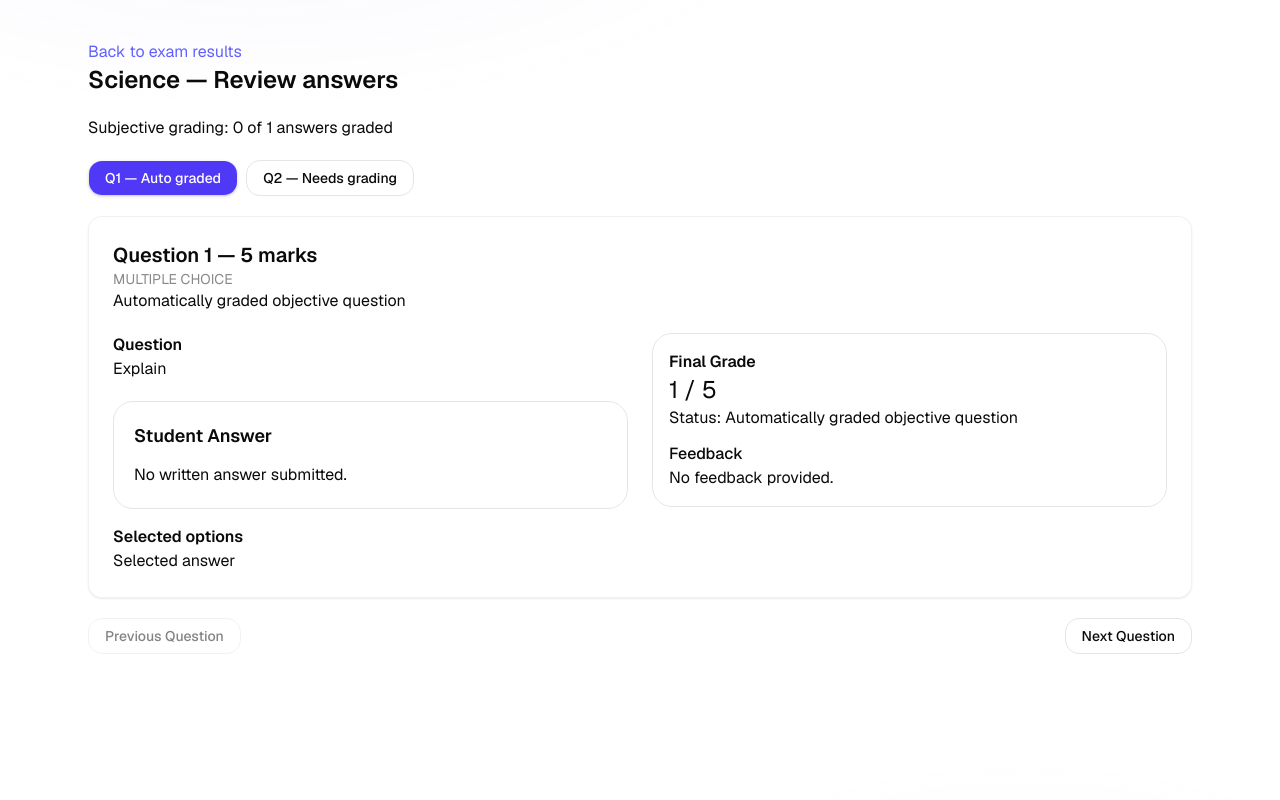
Test: opens the exact attempt, navigates answers and updates subjective progress after saving
Check: the list item "Selected answer" is shown, box [113,550,235,571]
Check: the button "Generate AI" is not shown
Click the button "Next Question" at {"x": 1128, "y": 636}, box [1065,618,1192,654]
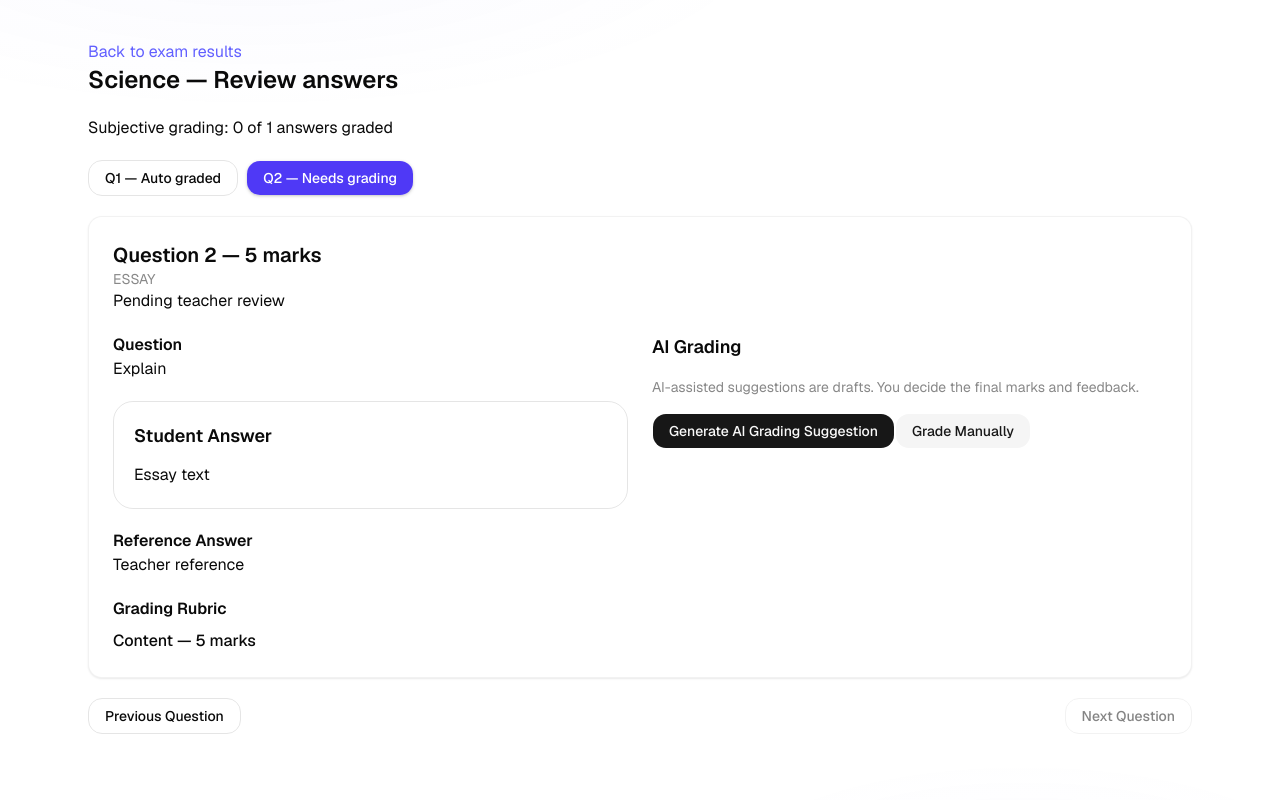
Check: the text "Subjective grading: 0 of 1 answers graded" is shown, box [88,117,393,138]
Check: the text "Essay text" is shown, box [134,464,210,485]
Check: the text "Teacher reference" is shown, box [113,554,244,575]
Click the button "Grade Manually" at {"x": 963, "y": 431}, box [895,413,1031,449]
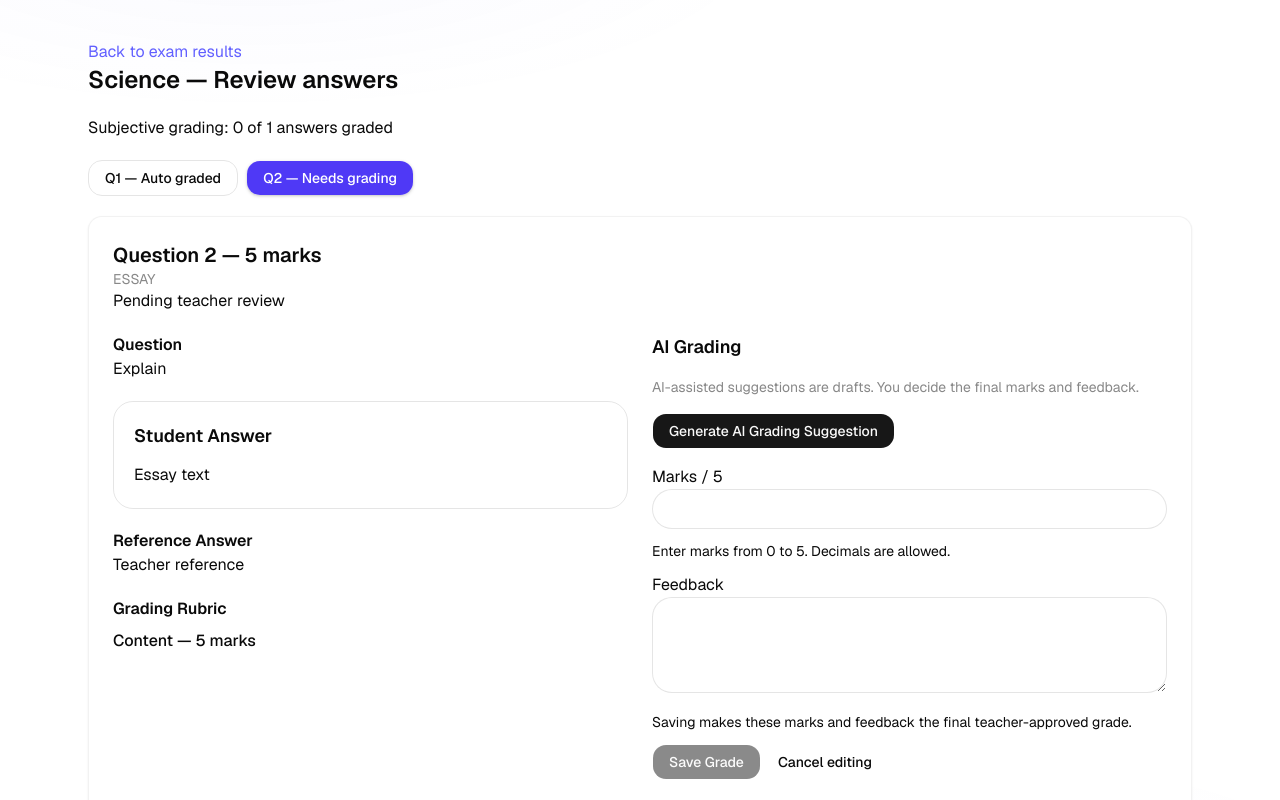
Type "3.5" into the number field labelled "Marks / 5" at {"x": 910, "y": 509}, box [652,489,1167,529]
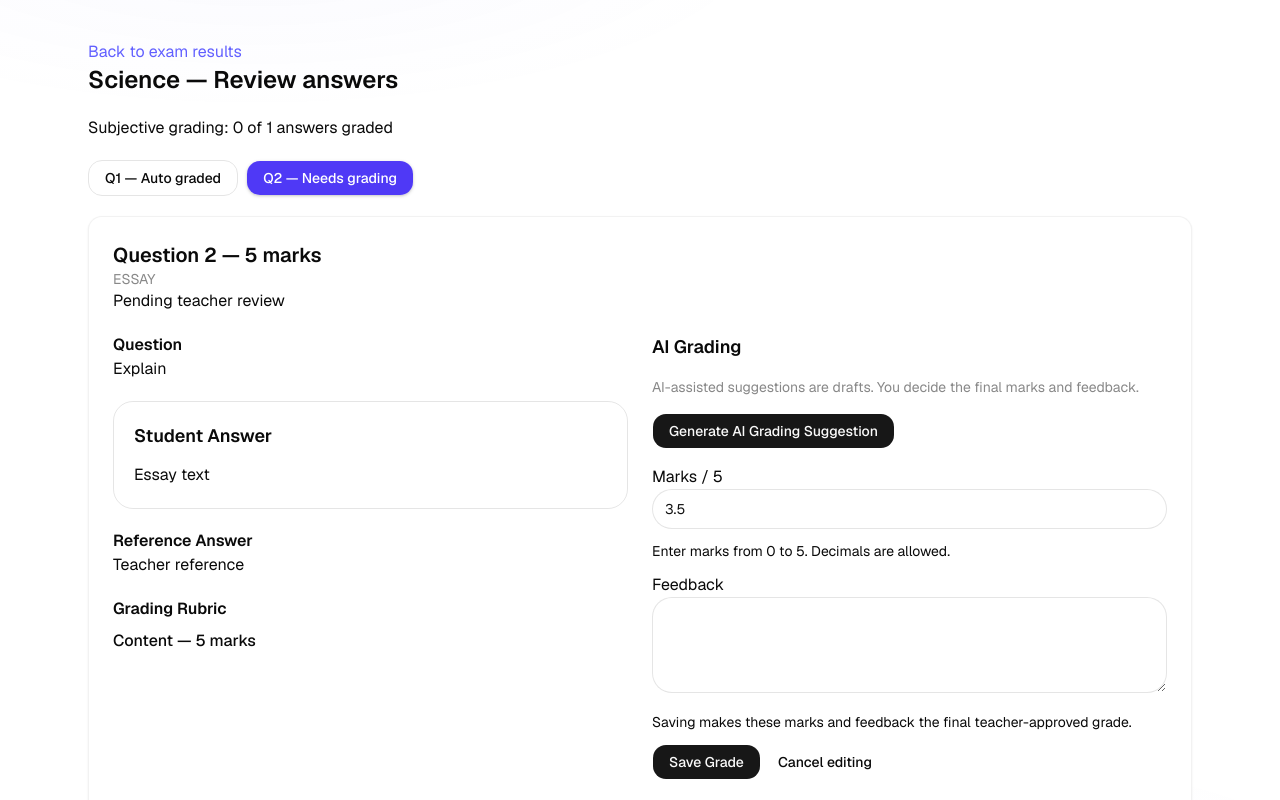
Click the button "Save Grade" at {"x": 706, "y": 762}, box [652,744,761,780]
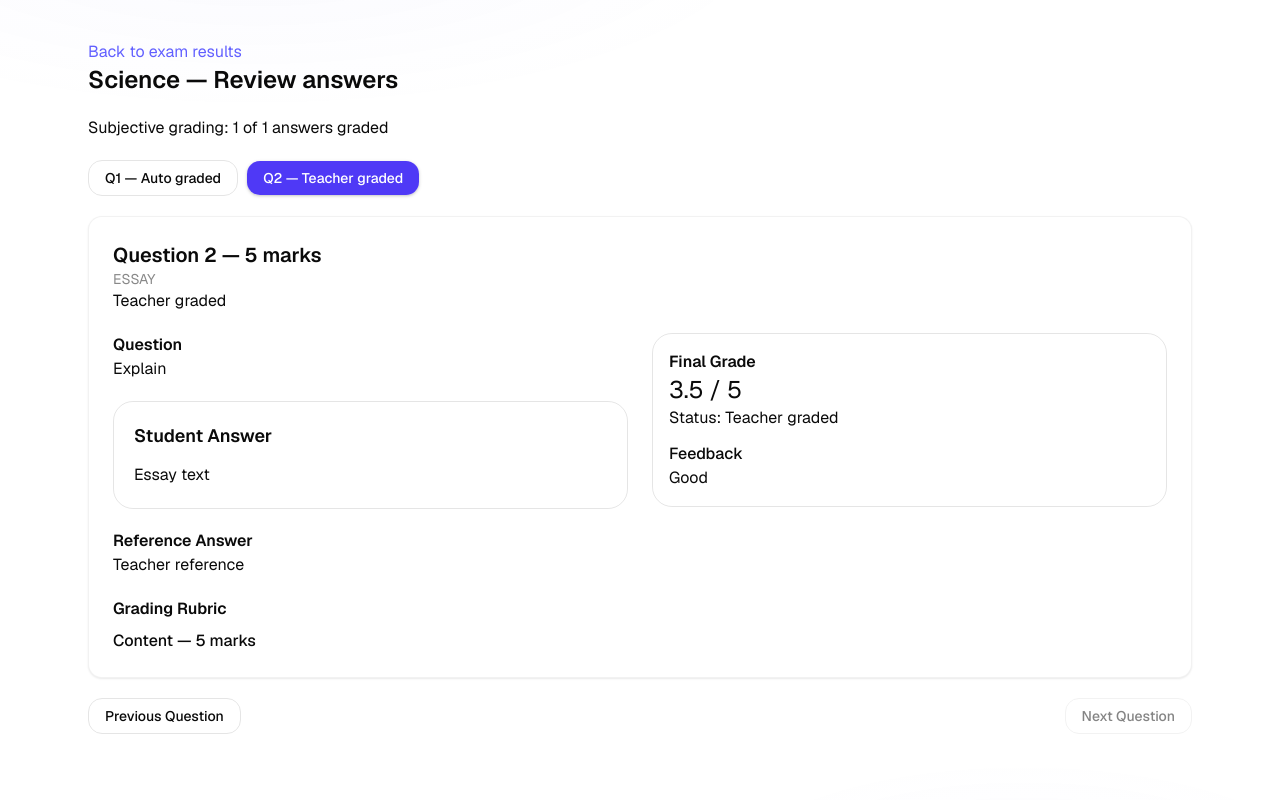
Check: the button "Next Question" is disabled, box [1065,698,1192,734]
Check: the text "Subjective grading: 1 of 1 answers graded" is shown, box [88,117,388,138]
Click the button "Previous Question" at {"x": 164, "y": 716}, box [88,698,241,734]
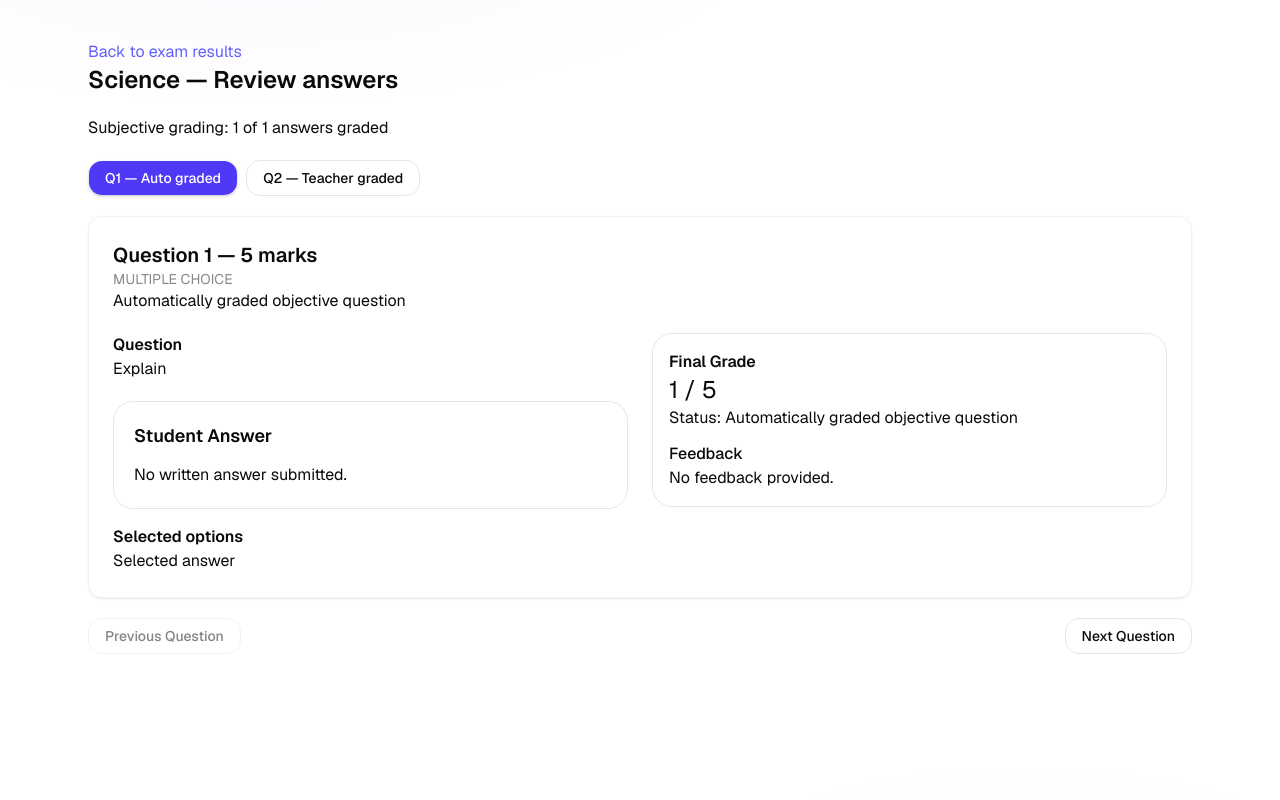
Check: the list item "Selected answer" is shown, box [113,550,235,571]
